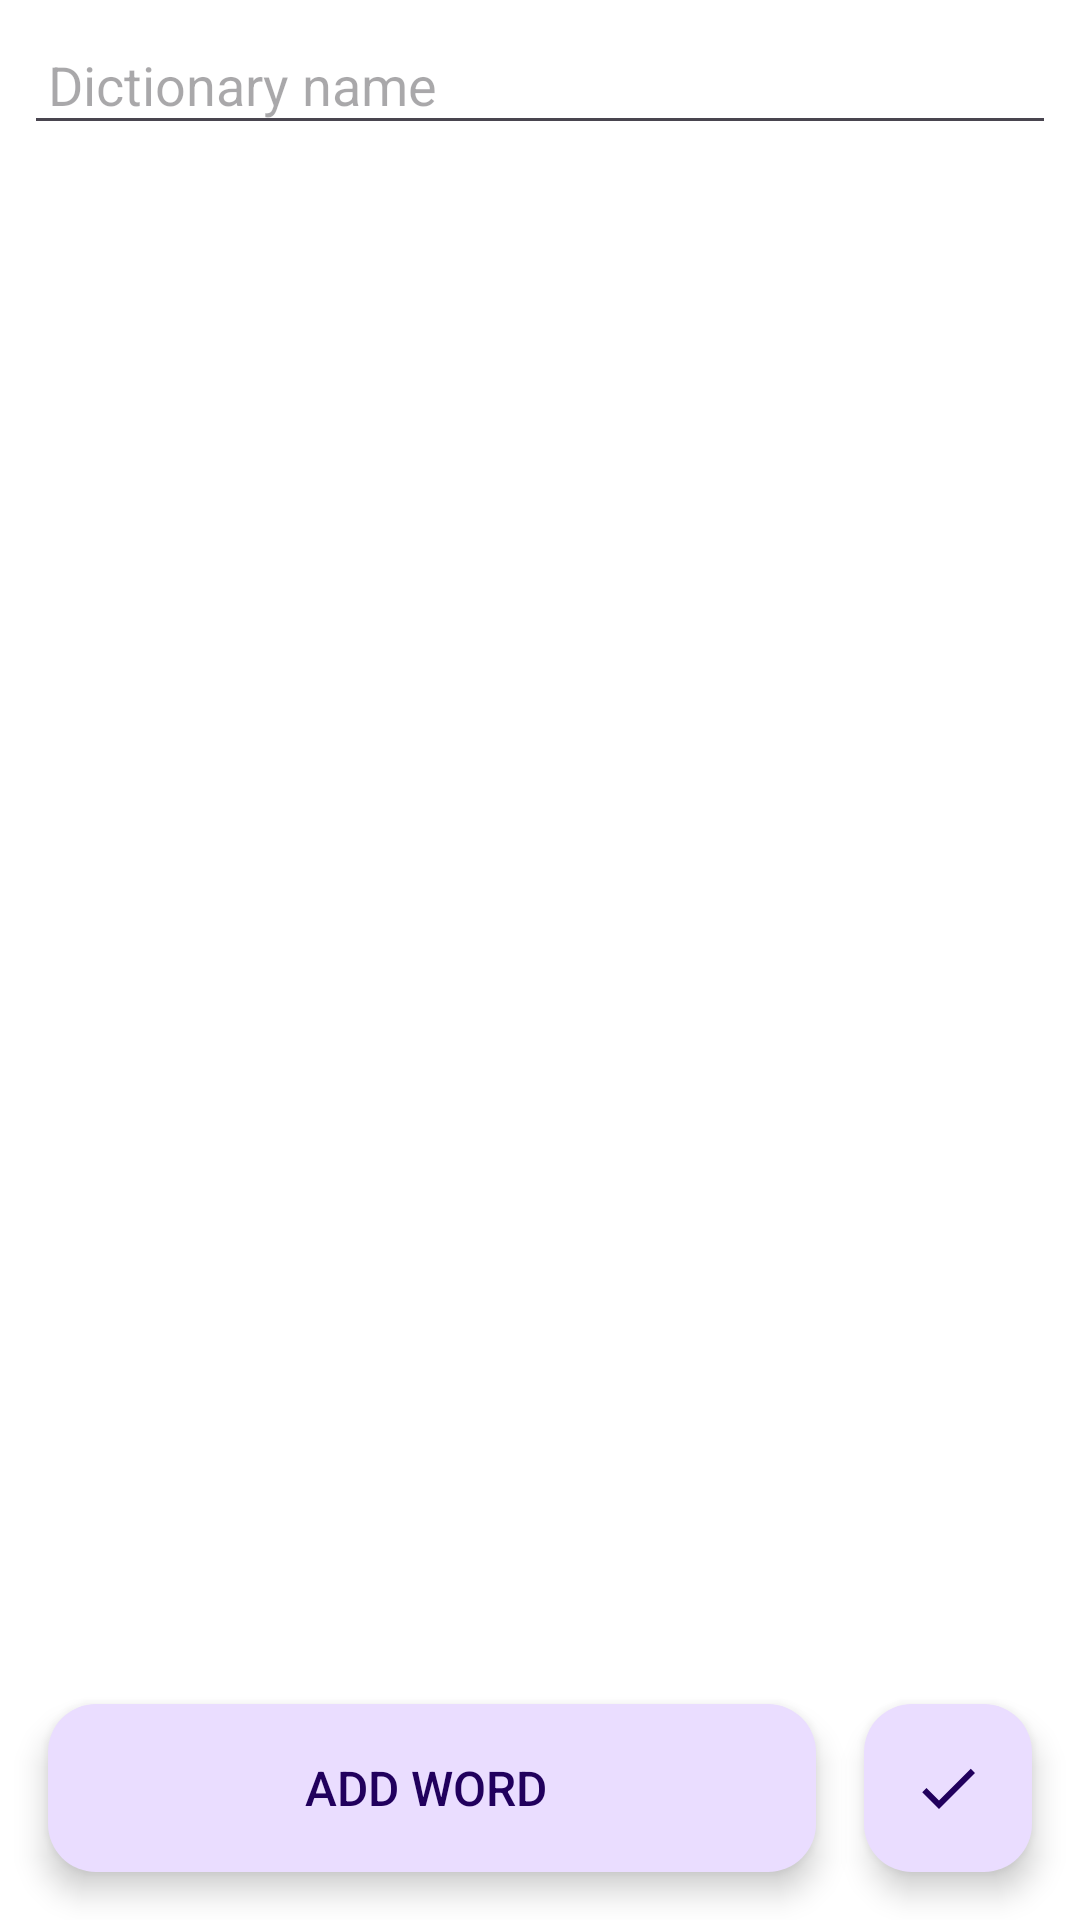

Screen size 1080px x 1920px. Icon name, then its box in pixels as box(x1, y1, x2, y2):
Confirm: box(864, 1704, 1032, 1872)
